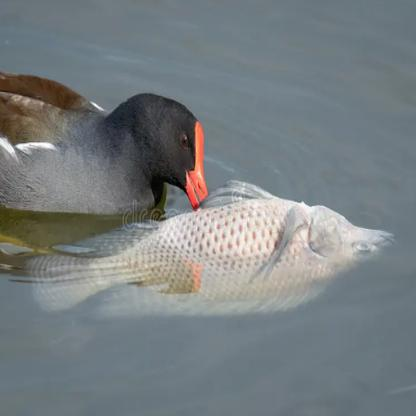deceased fish: (3, 195, 398, 302)
